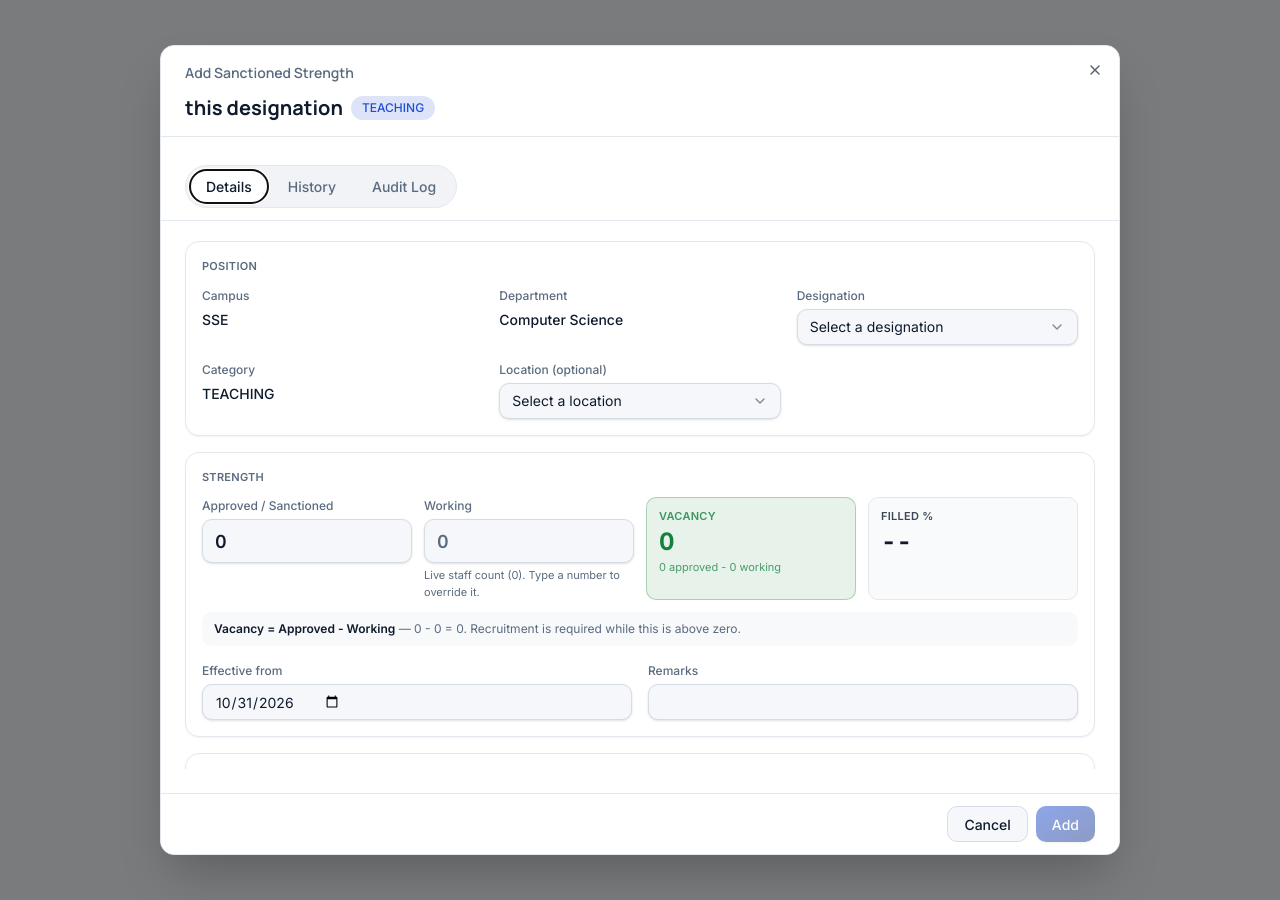
SanctionedStrengthDrawer › Basic Info tab › shows a category-filtered Designation picker in Add mode, excluding designations already in the breakdown
Expected: the tab "Details" is shown, [190,170,268,203]
Click the dropdown labelled "designation": x=937, y=326 [797,308,1078,344]
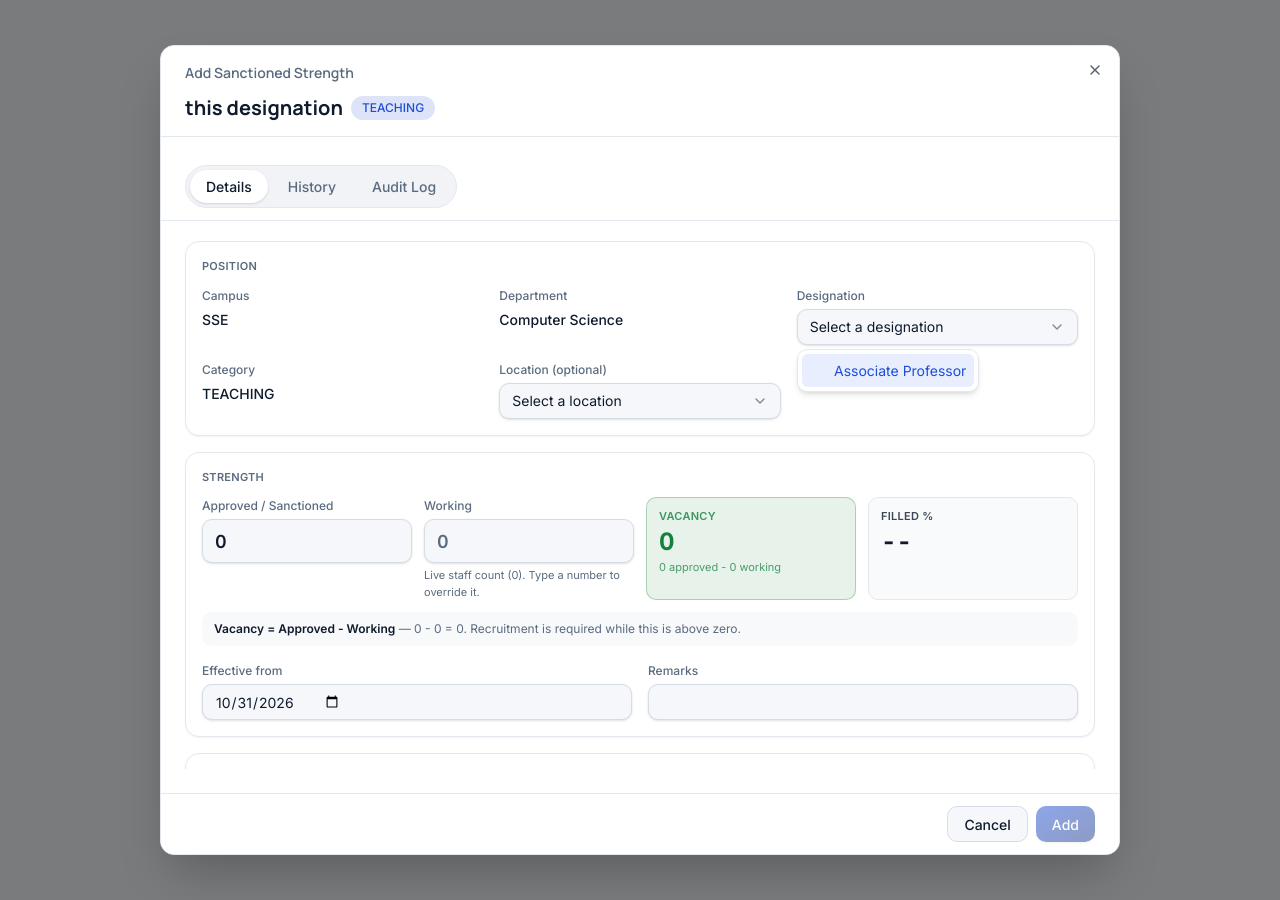
Expected: the option "Associate Professor" is shown, [802,354,974,387]
